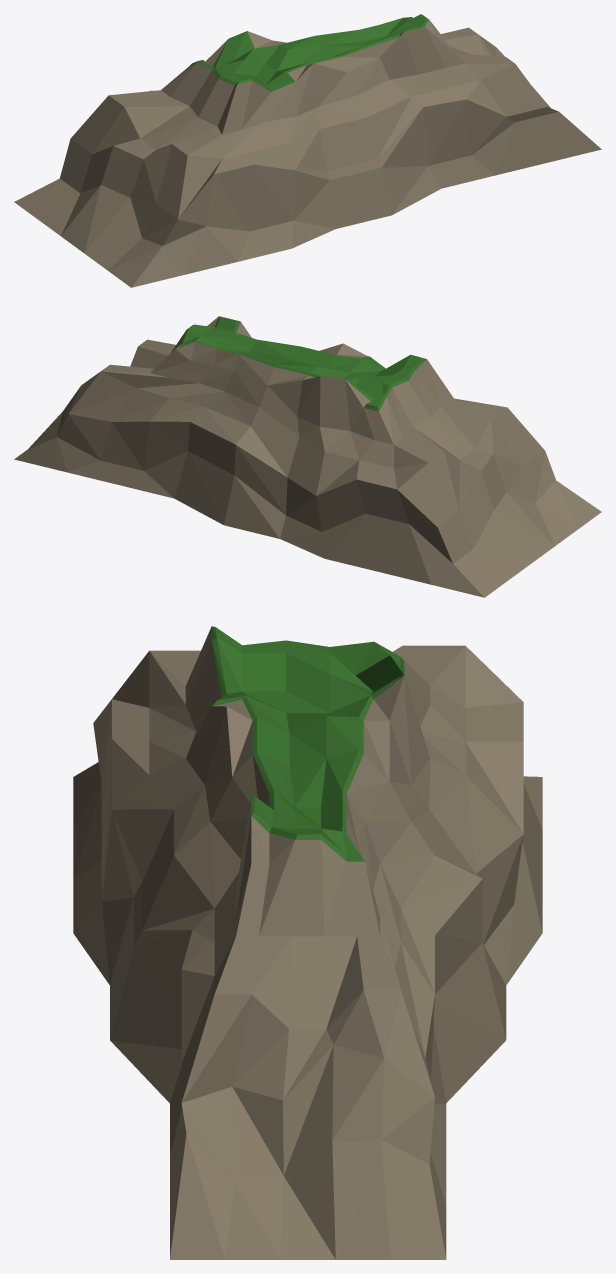
File: Plateau_04.glb
3 views of the same model, one above another, from view 1: azimuth 30°, elevation 25°; view 2: azimuth 150°, elevation 25°; view 3: azimuth 270°, elevation 25° (orthographic). The views are drawn at different scales.
Visible parts, largest first — view 1: Plateau_temperate_climate_004; view 2: Plateau_temperate_climate_004; view 3: Plateau_temperate_climate_004.
Part boxes in pixels (bbox=[...]): Plateau_temperate_climate_004: bbox=[14, 14, 601, 287]; Plateau_temperate_climate_004: bbox=[14, 316, 601, 597]; Plateau_temperate_climate_004: bbox=[73, 626, 542, 1259].
Bounding box in the file's own units: 56.07 × 16.01 × 23.02.
Materials: 1 (1 with a texture image).
